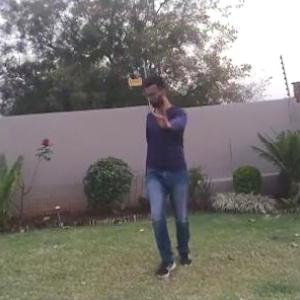takeoff-hand: (148, 99, 174, 132)
